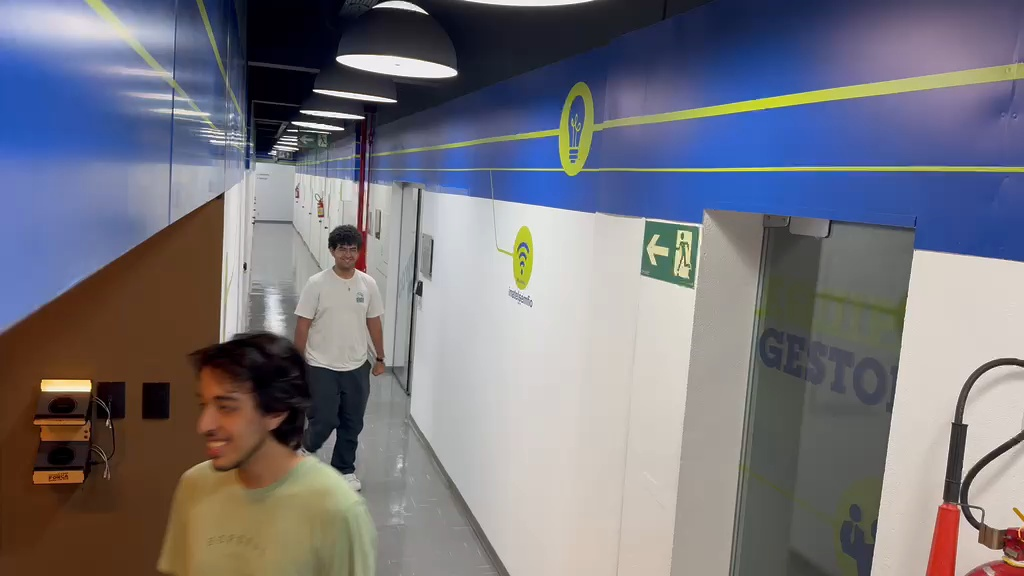person: (155, 332, 381, 571), (292, 225, 386, 479)
